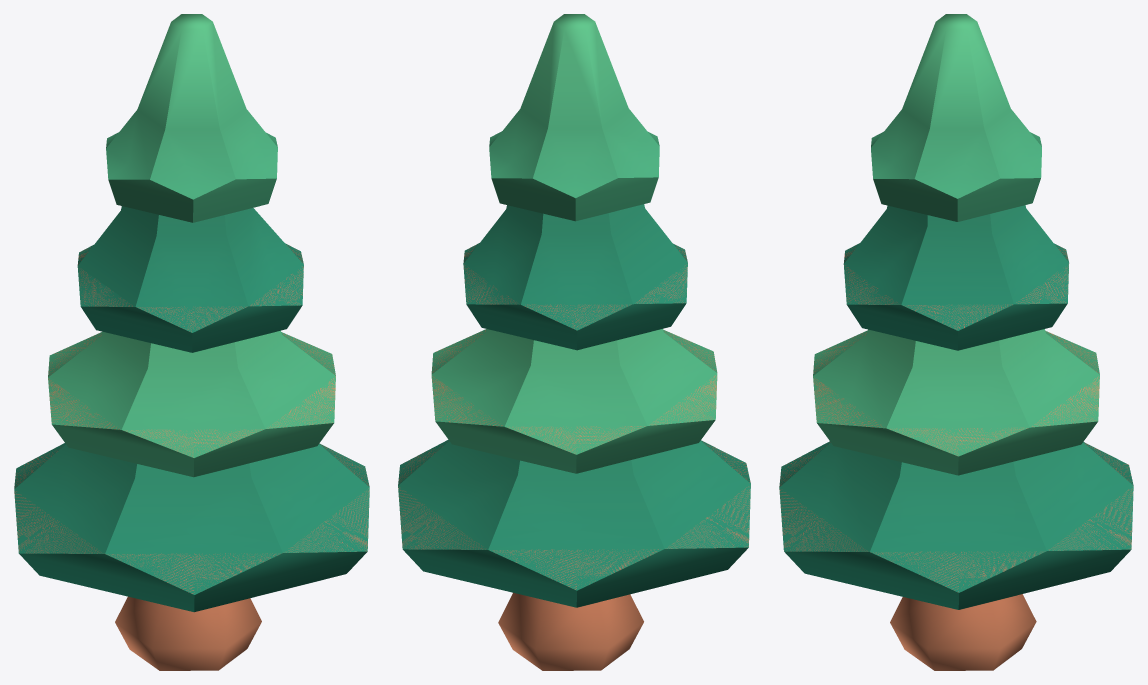
Rendered from pine.013_lev3.glb.
3 views of the same model, side by side, from view 1: azimuth 30°, elevation 25°; view 2: azimuth 150°, elevation 25°; view 3: azimuth 270°, elevation 25° (orthographic).
Visible parts, largest first — view 1: pine.013_lev3; view 2: pine.013_lev3; view 3: pine.013_lev3.
Boxes of the visible parts, x1,y1,x2,y2 form: pine.013_lev3: (14, 14, 369, 670); pine.013_lev3: (398, 14, 750, 670); pine.013_lev3: (779, 14, 1133, 670).
Bounding box in the file's own units: 13.34 × 23.02 × 11.78.
Materials: 1 (1 with a texture image).
